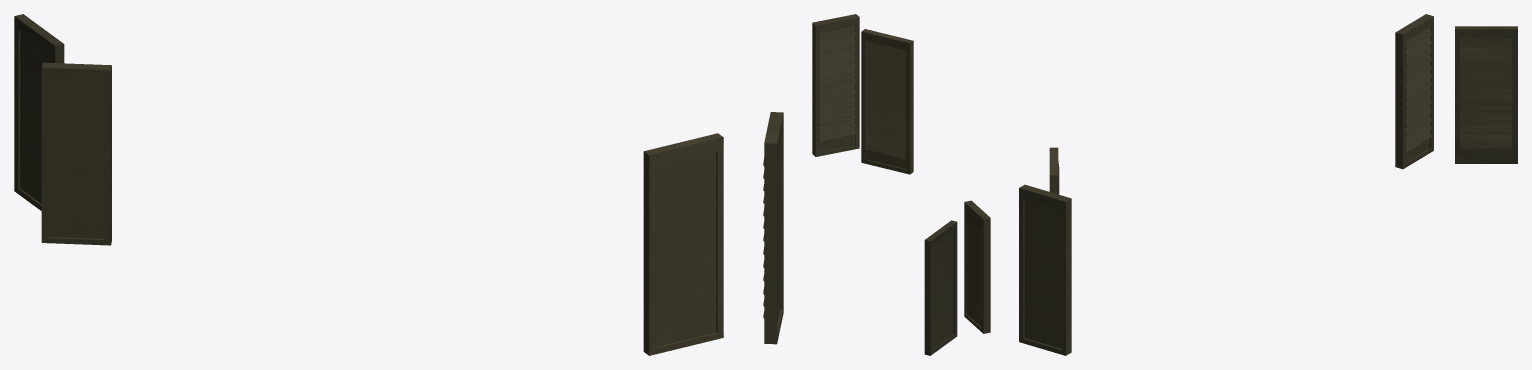
File: windowshutters (1).fbx
The picture shows the model from 3 angles, left to right: view 1: azimuth 30°, elevation 25°; view 2: azimuth 150°, elevation 25°; view 3: azimuth 270°, elevation 25°; orthographic projection. The views are drawn at different scales.
Visible parts, largest first — view 1: Window.003, Window, Window.001, Window.002; view 2: Window.003, Window.002, Window.001, Window; view 3: Window.001, Window.002, Window, Window.003.
Boxes of the visible parts, bbox=[...] form: Window.003: bbox=[643, 133, 723, 355]; Window: bbox=[41, 62, 111, 245]; Window.001: bbox=[14, 14, 64, 210]; Window.002: bbox=[763, 112, 783, 344]; Window.003: bbox=[861, 29, 913, 174]; Window.002: bbox=[812, 14, 859, 156]; Window.001: bbox=[924, 220, 957, 355]; Window: bbox=[964, 200, 990, 333]; Window.001: bbox=[1455, 26, 1517, 163]; Window.002: bbox=[1019, 184, 1071, 355]; Window: bbox=[1395, 14, 1433, 169]; Window.003: bbox=[1049, 147, 1059, 194].
Size of the model in its own units: 2648 by 1000 by 2933.
